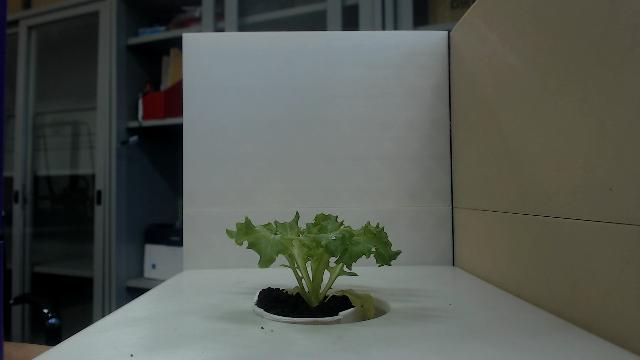Vegetative Stage: (224, 207, 402, 310)
